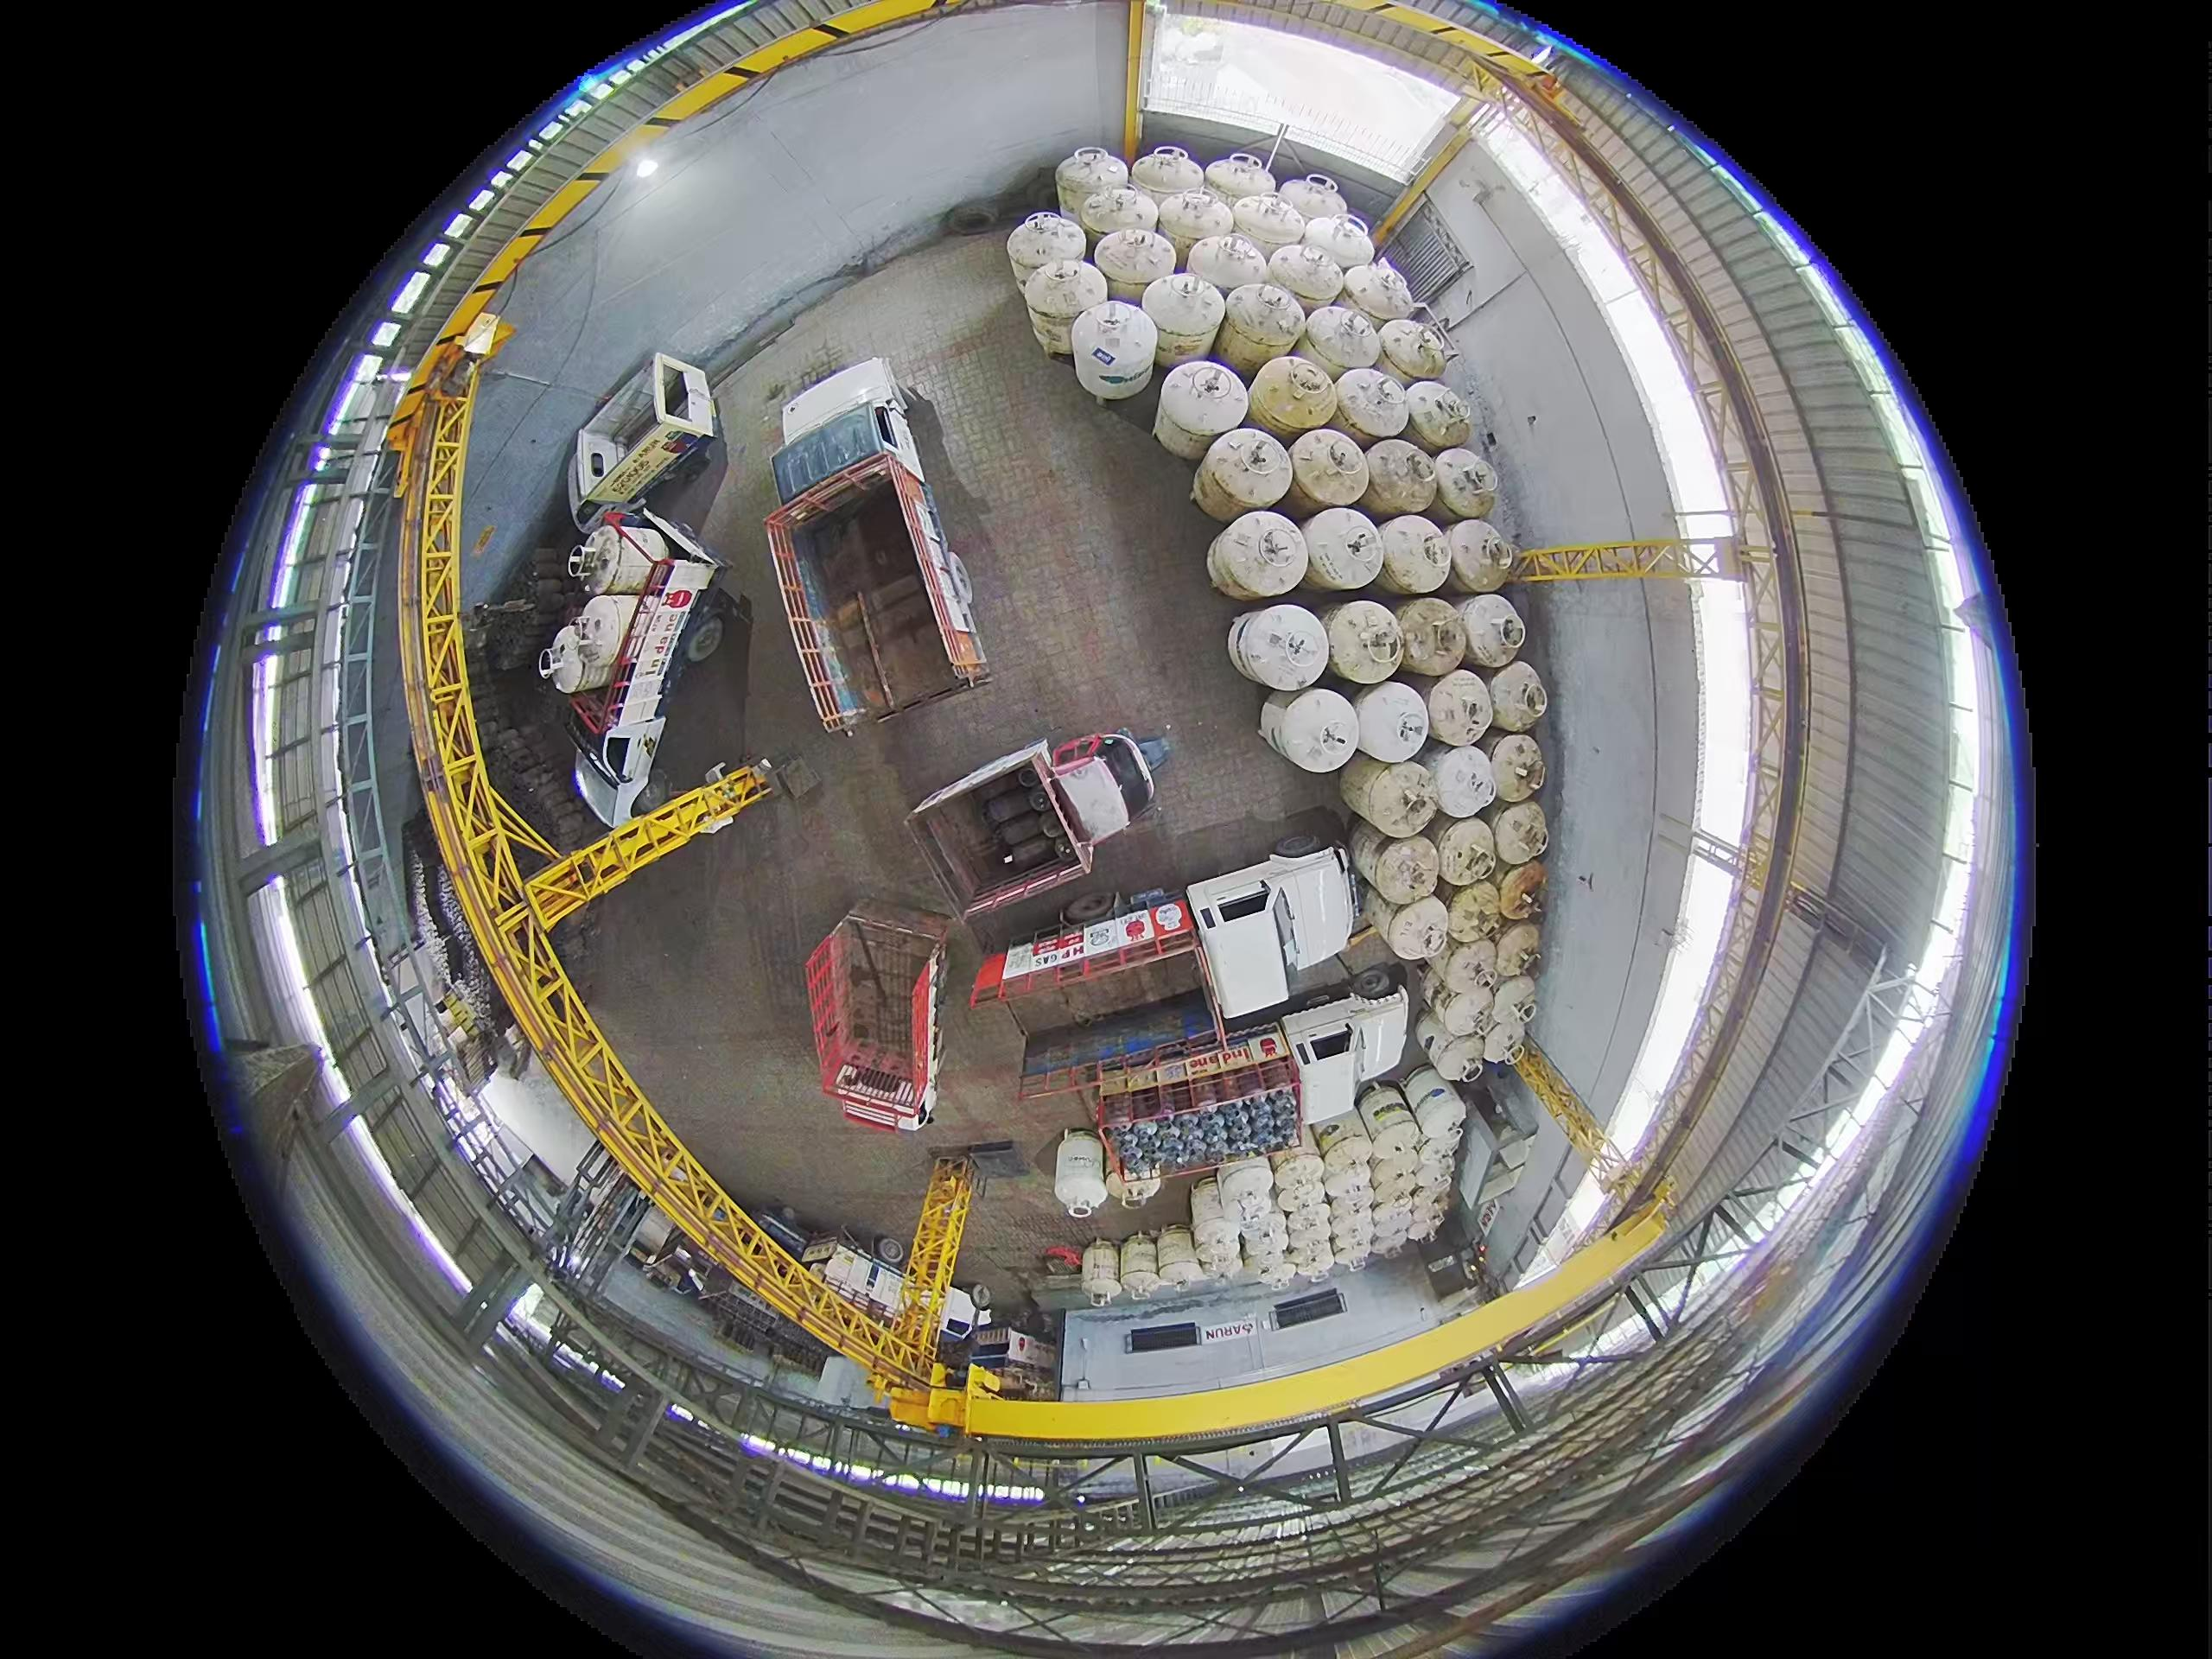cylinder: (1064, 315, 1164, 428), (1208, 510, 1308, 598), (1160, 359, 1248, 461), (1229, 605, 1329, 692), (1140, 272, 1225, 371), (1217, 281, 1304, 375), (1020, 257, 1103, 355), (1249, 354, 1339, 440), (1300, 505, 1386, 591), (1257, 692, 1350, 770), (1321, 600, 1407, 683), (1287, 429, 1370, 514), (1357, 760, 1440, 839), (1355, 681, 1433, 764), (1331, 365, 1411, 446), (1007, 210, 1086, 288), (1363, 437, 1440, 518), (1376, 514, 1453, 594), (1093, 226, 1175, 300), (1186, 231, 1272, 301), (1055, 148, 1128, 228), (1394, 596, 1466, 677), (1302, 303, 1383, 375), (1154, 190, 1235, 262), (1425, 668, 1496, 749), (1082, 184, 1159, 255), (1192, 449, 1265, 523), (1456, 594, 1527, 670), (1266, 238, 1344, 308), (1443, 518, 1514, 593), (1430, 447, 1501, 522), (1429, 745, 1500, 818), (1401, 380, 1472, 452), (1230, 192, 1306, 256), (1434, 814, 1502, 887), (1378, 317, 1452, 384), (1342, 261, 1414, 327), (1300, 213, 1376, 276), (1483, 660, 1548, 733), (1382, 893, 1452, 959), (1053, 1132, 1107, 1218), (1129, 145, 1204, 207), (1347, 823, 1412, 891), (1489, 798, 1550, 867), (1445, 880, 1508, 945), (1488, 731, 1547, 800), (1203, 152, 1275, 207), (1215, 1154, 1275, 1220), (1429, 981, 1496, 1040), (1278, 173, 1349, 228), (1439, 940, 1501, 999), (1425, 1027, 1487, 1084), (1358, 1081, 1417, 1141), (1410, 1090, 1467, 1148), (1487, 976, 1540, 1037), (1497, 860, 1549, 921), (1491, 919, 1543, 981), (1105, 1149, 1159, 1208), (1366, 1120, 1422, 1174), (1192, 1220, 1243, 1277), (1190, 1180, 1232, 1243), (1273, 1151, 1328, 1198), (1082, 1241, 1122, 1304), (1370, 1157, 1424, 1204), (1322, 1133, 1376, 1179), (1238, 1216, 1287, 1266), (1322, 1158, 1374, 1203), (1480, 1019, 1525, 1069), (1368, 1196, 1414, 1241), (1121, 1236, 1160, 1287), (1287, 1232, 1335, 1275), (1156, 1249, 1203, 1290), (1416, 1147, 1459, 1192), (1332, 1220, 1373, 1266), (1403, 1186, 1444, 1233), (1253, 1254, 1296, 1289)
truck: (972, 848, 1358, 1075), (765, 359, 992, 734), (1065, 988, 1446, 1195), (1037, 989, 1413, 1197), (539, 507, 748, 827), (912, 732, 1140, 923), (806, 907, 947, 1132), (567, 353, 721, 531), (772, 359, 929, 516)
